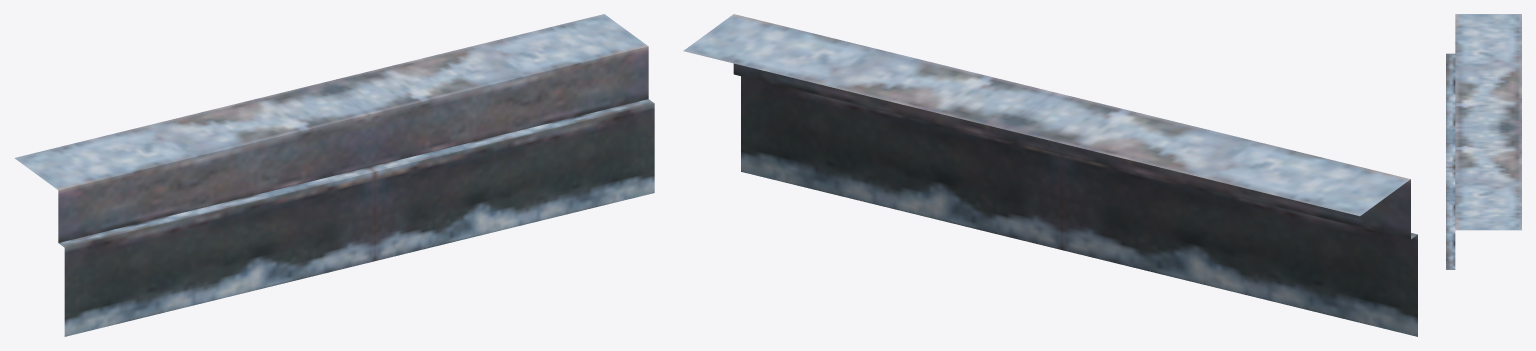
File: yw_anxizhidi_baobian01.FBX
3 renders of one model, left to right at view 1: azimuth 30°, elevation 25°; view 2: azimuth 150°, elevation 25°; view 3: azimuth 270°, elevation 25°, orthographic. The views are drawn at different scales.
Visible parts, largest first — view 1: yw_anxizhidi_baobian01; view 2: yw_anxizhidi_baobian01; view 3: yw_anxizhidi_baobian01.
Part boxes in pixels (x1,y1,x2,y2): yw_anxizhidi_baobian01: [14, 14, 654, 336]; yw_anxizhidi_baobian01: [683, 14, 1417, 336]; yw_anxizhidi_baobian01: [1446, 14, 1521, 269].
Bounding box in the file's own units: 540 × 124 × 79.83.
